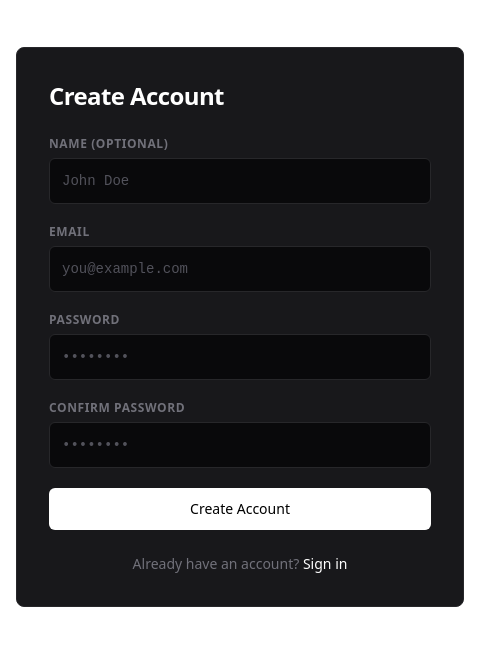
Scenario: RegisterPage › should show error when passwords do not match
Step 1. Type "test@example.com" into the field labelled "Email" → (240, 269), box [49,246,431,292]
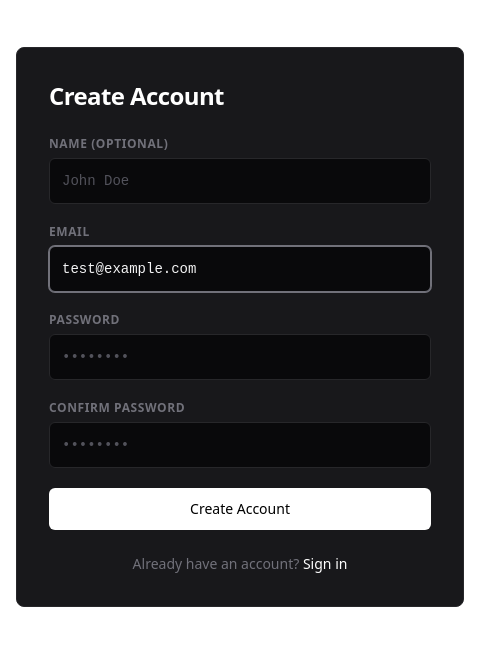
Step 2. Type "password123" into the password field labelled "Password" → (240, 357), box [49,334,431,380]
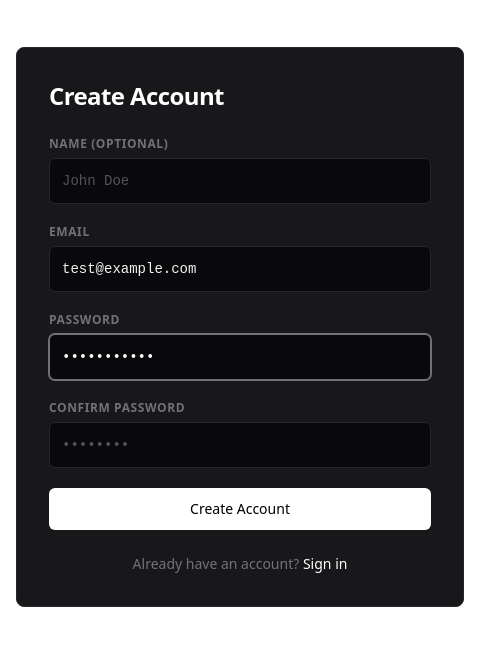
Step 3. Type "different" into the password field labelled "Confirm Password" → (240, 445), box [49,422,431,468]
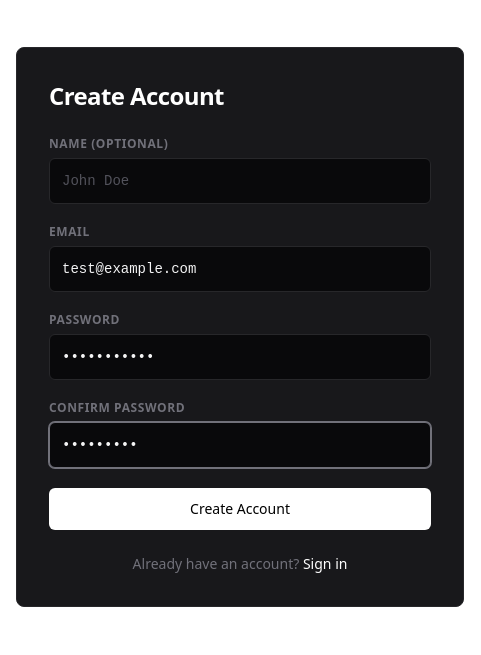
Step 4. Click the button "Create Account" → (240, 509), box [49,488,431,530]
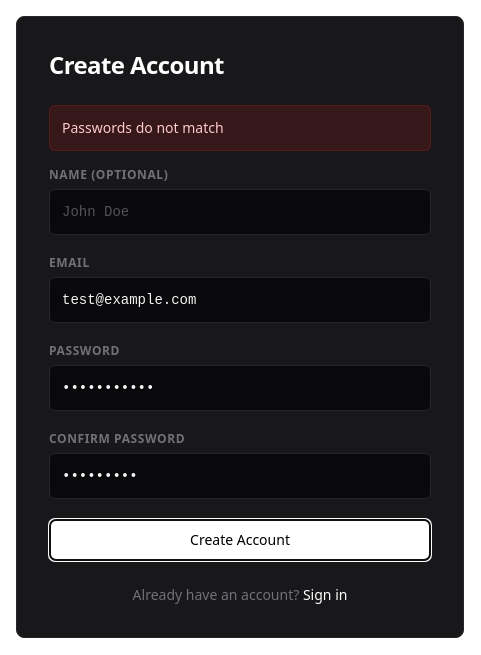
Check: the text "Passwords do not match" is shown, box [49,105,431,151]
